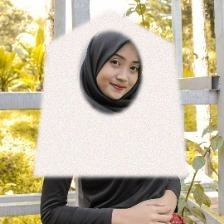Mukena: (33, 8, 188, 177)
